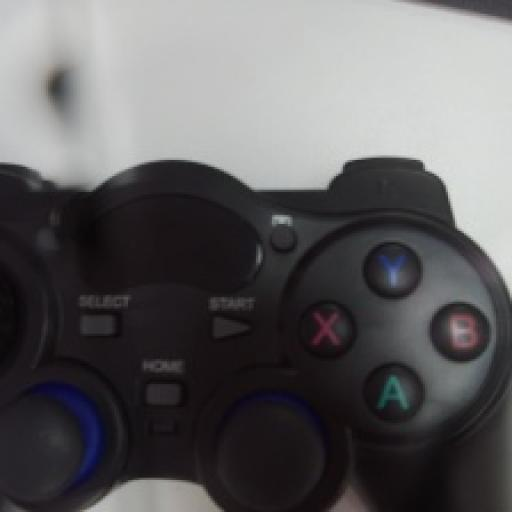game pad: (0, 162, 510, 510)
